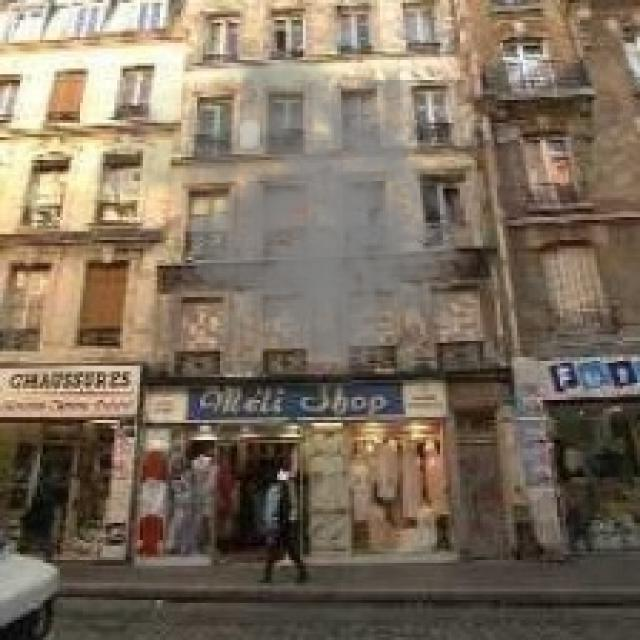smoke: (89, 37, 472, 392)
